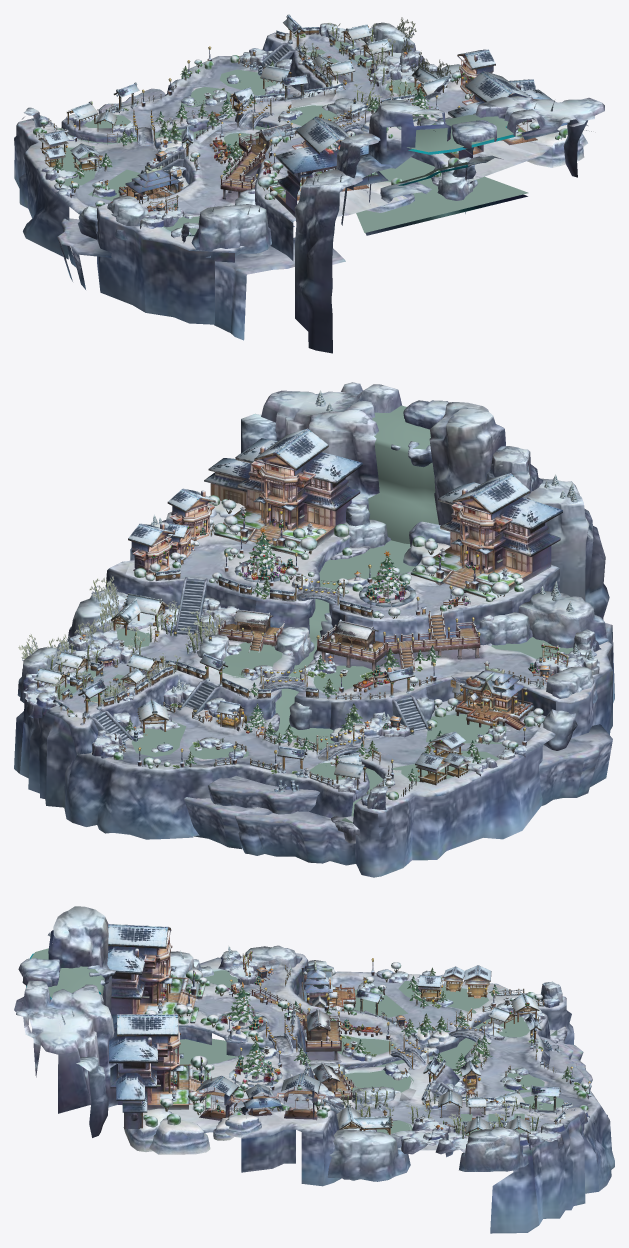
File: febg_hotspring_001_02.glb
3 renders of one model, top to bottom at view 1: azimuth 30°, elevation 25°; view 2: azimuth 150°, elevation 25°; view 3: azimuth 270°, elevation 25°, orthographic. The views are drawn at different scales.
Visible parts, largest first — view 1: febg_hotspring_001_bg_01, febg_hotspring_001_cliff_01, febg_hotspring_001_water_01, febg_hotspring_001_ryokan_02, febg_hotspring_001_cliff_02 (1), febg_hotspring_001_ryokan_01, febg_hotspring_001_waterfall_01, febg_hotspring_001_ryokan_05, febg_hotspring_001_stone_03 (5) (×2), febg_hotspring_001_cliff_05 (4), febg_hotspring_001_cliff_02 (4), febg_hotspring_001_pavilion_05 (+7 smaller); view 2: febg_hotspring_001_bg_01, febg_hotspring_001_cliff_01, febg_hotspring_001_ryokan_01, febg_hotspring_001_water_01, febg_hotspring_001_ryokan_02, febg_hotspring_001_waterfall_01, febg_hotspring_001_ryokan_05, febg_hotspring_001_cliff_02 (1), febg_hotspring_001_pavilion_04, febg_hotspring_001_pavilion_05, febg_hotspring_001_ryokan_04 (1), febg_hotspring_001_ryokan_04 (2) (+16 smaller); view 3: febg_hotspring_001_bg_01, febg_hotspring_001_cliff_01, febg_hotspring_001_ryokan_01, febg_hotspring_001_water_01, febg_hotspring_001_ryokan_02, febg_hotspring_001_cliff_02 (2), febg_hotspring_001_stone_03 (5) (×2), febg_hotspring_001_cliff_02 (7), febg_hotspring_001_ryokan_05, febg_hotspring_001_pavilion_04, febg_hotspring_001_ryokan_04 (1), febg_hotspring_001_ryokan_04 (2) (+16 smaller).
Boxes of the visible parts, x1,y1,x2,y2 form: febg_hotspring_001_bg_01: (14,32,551,340); febg_hotspring_001_cliff_01: (294,96,604,353); febg_hotspring_001_water_01: (51,40,528,235); febg_hotspring_001_ryokan_02: (265,116,388,217); febg_hotspring_001_cliff_02 (1): (191,204,271,257); febg_hotspring_001_ryokan_01: (443,71,587,158); febg_hotspring_001_waterfall_01: (397,114,513,182); febg_hotspring_001_ryokan_05: (110,165,188,203); febg_hotspring_001_stone_03 (5) (×2): (361,133,584,212); febg_hotspring_001_cliff_05 (4): (336,133,380,190); febg_hotspring_001_cliff_02 (4): (107,196,148,240); febg_hotspring_001_pavilion_05: (220,144,264,199); febg_hotspring_001_bg_01: (14,513,614,877); febg_hotspring_001_cliff_01: (241,382,609,619); febg_hotspring_001_ryokan_01: (204,428,362,557); febg_hotspring_001_water_01: (57,540,573,823); febg_hotspring_001_ryokan_02: (410,473,562,599); febg_hotspring_001_waterfall_01: (368,405,438,543); febg_hotspring_001_ryokan_05: (450,661,533,730); febg_hotspring_001_cliff_02 (1): (518,591,608,648); febg_hotspring_001_pavilion_04: (317,619,392,671); febg_hotspring_001_pavilion_05: (385,621,480,672); febg_hotspring_001_ryokan_04 (1): (128,522,174,574); febg_hotspring_001_ryokan_04 (2): (167,488,215,540); febg_hotspring_001_bg_01: (122,953,614,1233); febg_hotspring_001_cliff_01: (14,906,119,1137); febg_hotspring_001_ryokan_01: (109,1014,210,1128); febg_hotspring_001_water_01: (175,970,563,1135); febg_hotspring_001_ryokan_02: (107,924,205,1023); febg_hotspring_001_cliff_02 (2): (327,1129,410,1181); febg_hotspring_001_stone_03 (5) (×2): (123,1108,210,1154); febg_hotspring_001_cliff_02 (7): (459,1126,528,1171); febg_hotspring_001_ryokan_05: (301,960,355,1011); febg_hotspring_001_pavilion_04: (304,1008,341,1060); febg_hotspring_001_ryokan_04 (1): (276,1073,325,1120); febg_hotspring_001_ryokan_04 (2): (193,1075,241,1120).
Bounding box in the file's own units: 159 × 71.01 × 176.
13 materials, 12 textured.
